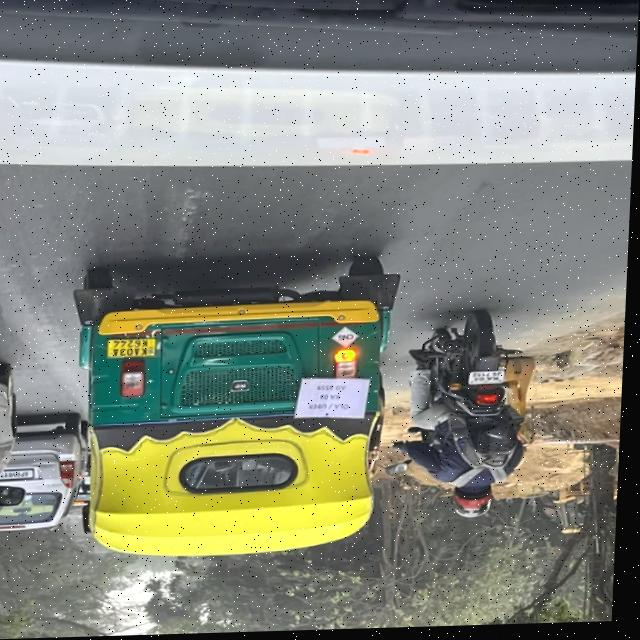plate: (106, 335, 164, 364), (469, 371, 513, 394), (1, 469, 41, 484)
